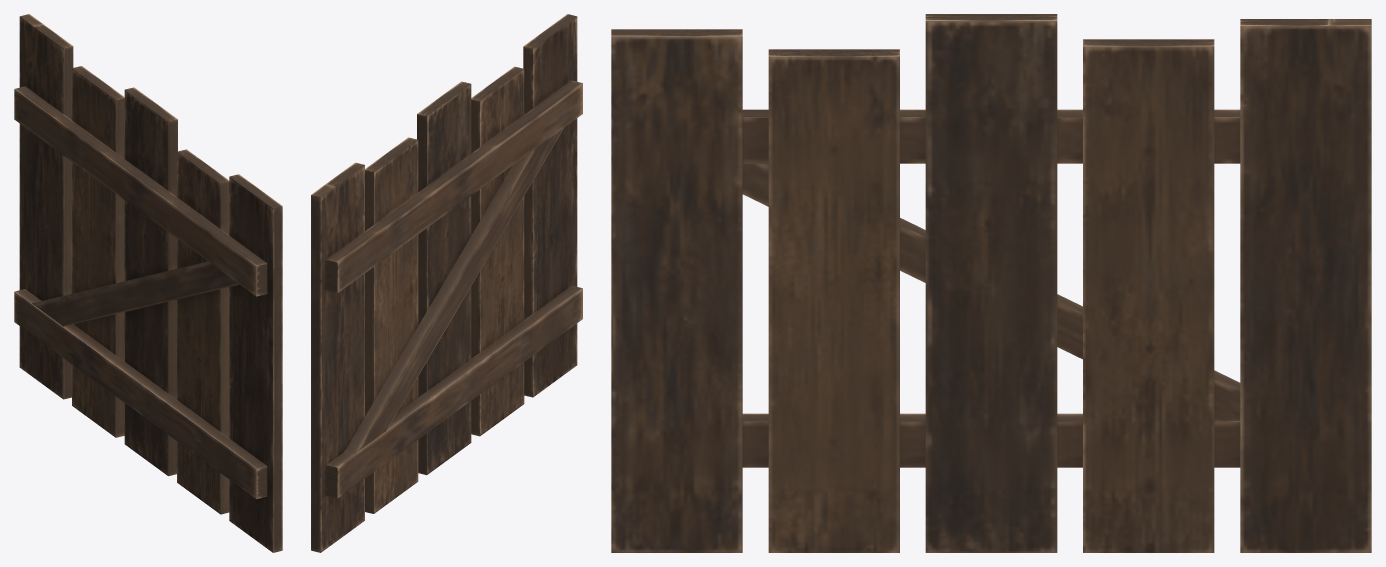
Rendered from babai-side-gate-wood-pbr-2k-v1.glb.
3 renders of one model, left to right at view 1: azimuth 30°, elevation 25°; view 2: azimuth 150°, elevation 25°; view 3: azimuth 270°, elevation 25°, orthographic. The views are drawn at different scales.
Visible parts, largest first — view 1: LooseBoardPlank4, LooseBoardPlank0, LooseBoardPlank2, LooseBoardPlank1, LooseBoardPlank3, LooseBoardBattenHigh, LooseBoardBattenLow, LooseBoardBrace; view 2: LooseBoardPlank0, LooseBoardPlank4, LooseBoardPlank2, LooseBoardPlank1, LooseBoardPlank3, LooseBoardBattenHigh, LooseBoardBattenLow, LooseBoardBrace; view 3: LooseBoardPlank2, LooseBoardPlank0, LooseBoardPlank4, LooseBoardPlank1, LooseBoardPlank3, LooseBoardBattenHigh, LooseBoardBattenLow, LooseBoardBrace.
Part boxes in pixels (x1,y1,x2,y2): LooseBoardPlank4: [229, 174, 282, 552]; LooseBoardPlank0: [19, 14, 73, 399]; LooseBoardPlank2: [124, 87, 177, 476]; LooseBoardPlank1: [72, 66, 124, 437]; LooseBoardPlank3: [177, 149, 229, 514]; LooseBoardBattenHigh: [14, 86, 267, 296]; LooseBoardBattenLow: [14, 289, 267, 498]; LooseBoardBrace: [32, 261, 239, 326]; LooseBoardPlank0: [311, 162, 364, 552]; LooseBoardPlank4: [523, 14, 577, 397]; LooseBoardPlank2: [417, 81, 471, 475]; LooseBoardPlank1: [365, 137, 418, 513]; LooseBoardPlank3: [471, 66, 524, 436]; LooseBoardBattenHigh: [326, 80, 582, 293]; LooseBoardBattenLow: [326, 285, 582, 498]; LooseBoardBrace: [344, 128, 563, 455]; LooseBoardPlank2: [925, 14, 1057, 552]; LooseBoardPlank0: [1240, 19, 1371, 552]; LooseBoardPlank4: [611, 29, 742, 552]; LooseBoardPlank1: [1083, 39, 1214, 552]; LooseBoardPlank3: [768, 49, 899, 552]; LooseBoardBattenHigh: [742, 109, 1240, 163]; LooseBoardBattenLow: [742, 413, 1240, 467]; LooseBoardBrace: [742, 163, 1240, 421].
Size of the model in its own units: 0.0645 by 1.05 by 1.36.
8 materials, 8 textured.
